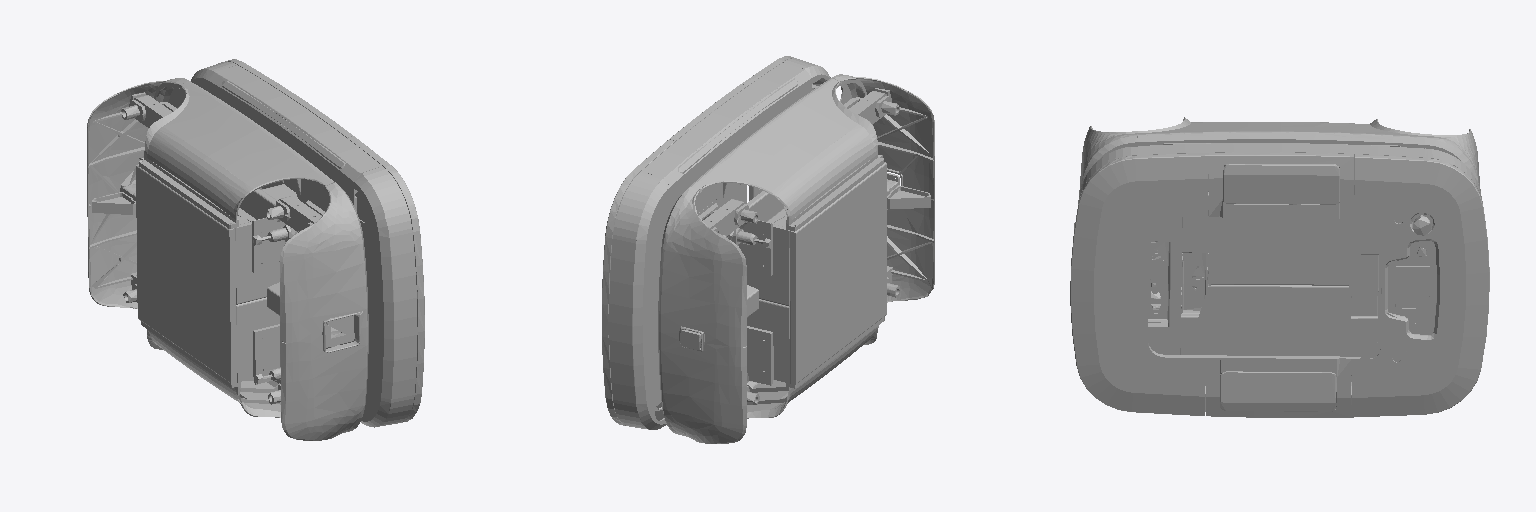
3 views of the same model, side by side, from view 1: azimuth 30°, elevation 25°; view 2: azimuth 150°, elevation 25°; view 3: azimuth 270°, elevation 25° (orthographic).
Parts seen in each view (by area): view 1: base_link; view 2: base_link; view 3: base_link.
Part boxes in pixels (x1,y1,x2,y2): base_link: (87,59,424,440); base_link: (602,56,934,443); base_link: (1070,117,1489,417).
Bounding box in the file's own units: 0.2918 × 0.4957 × 0.717.